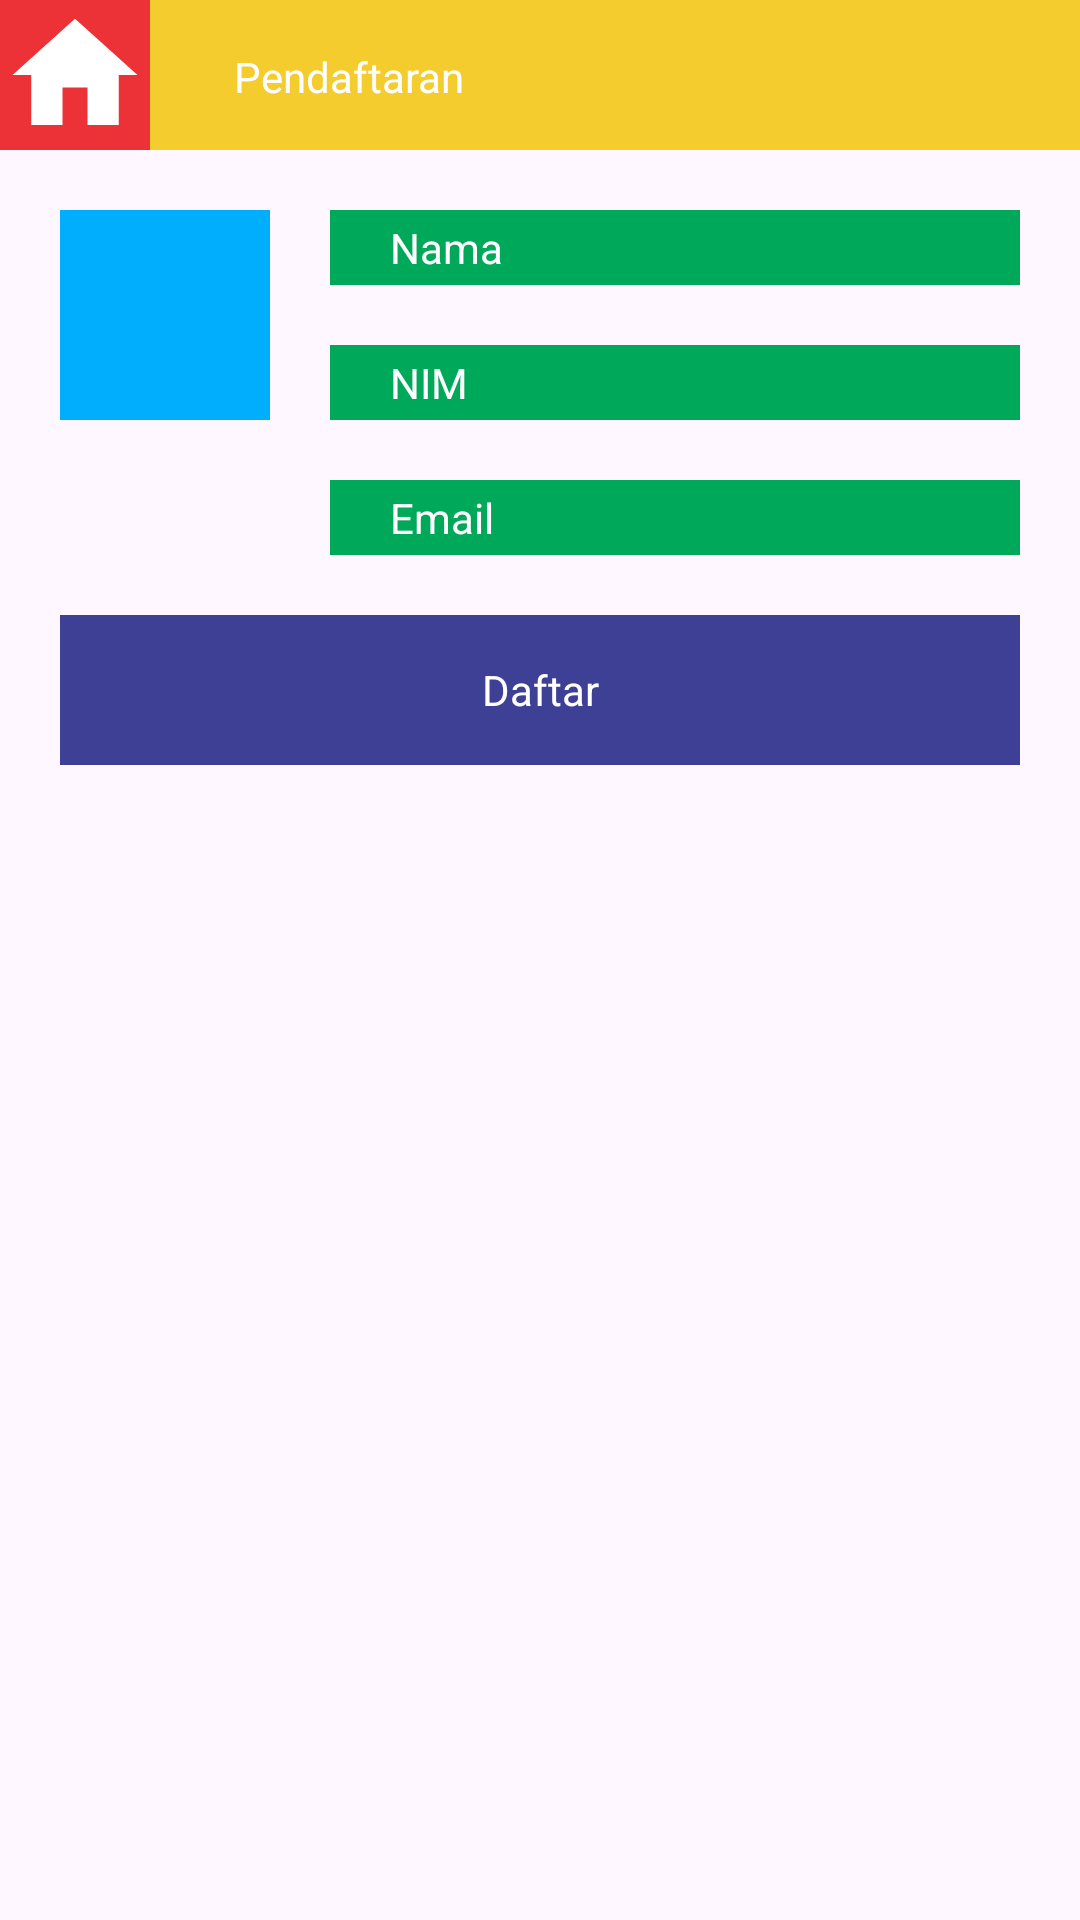

Screen size 1080x1920. Icon name, then its center in pixels as (x=x, y=y):
home: (x=75, y=75)
